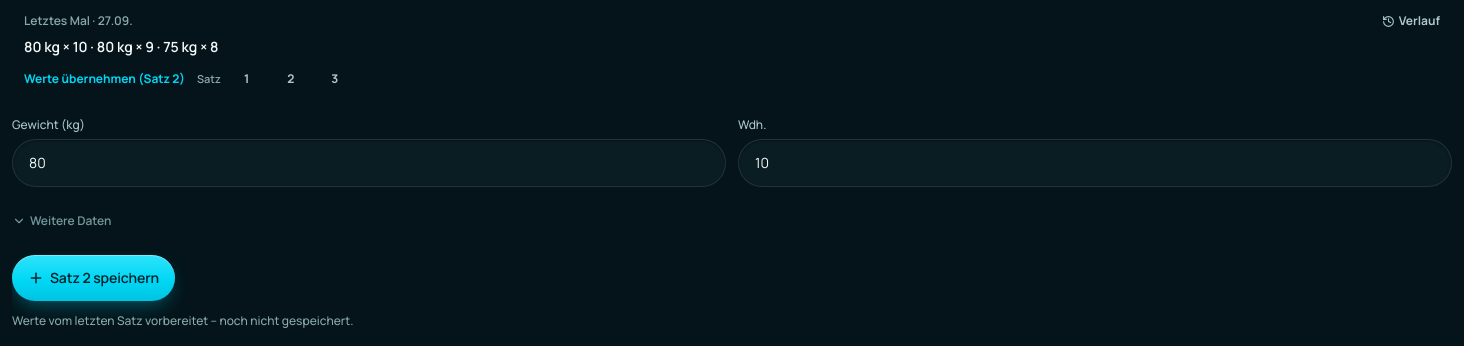
Scenario: SetLogger — suggestions and copying › copies the set that matches the next set number, and lets the user pick another one explicitly
Click the button "Werte übernehmen (Satz 2)" at (104, 79), box [18,57,191,101]
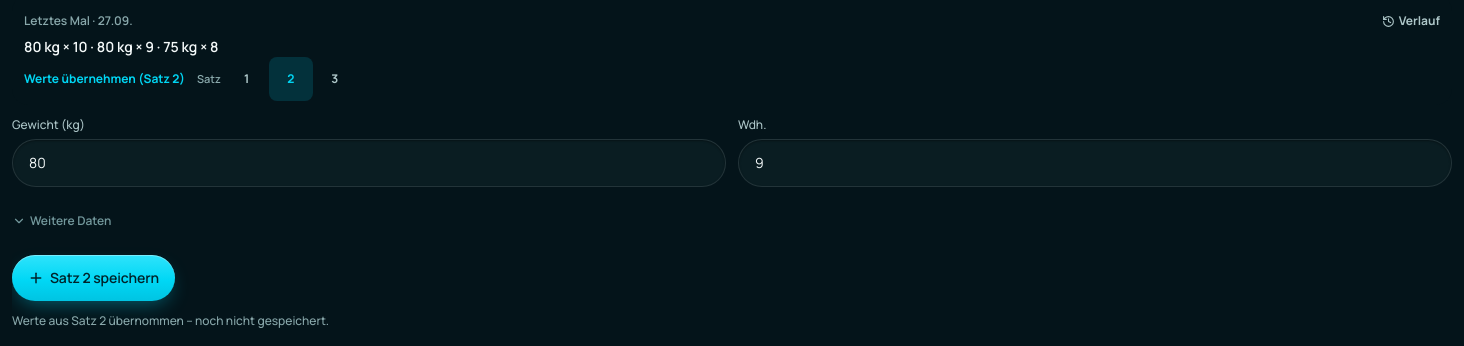
Expected: the field named "reps" holds "9", [738,139,1452,187]
Expected: the text "Werte aus Satz 2 übernommen" is shown, [12,312,329,329]
Click the button "3" at (335, 79), box [313,57,357,101]
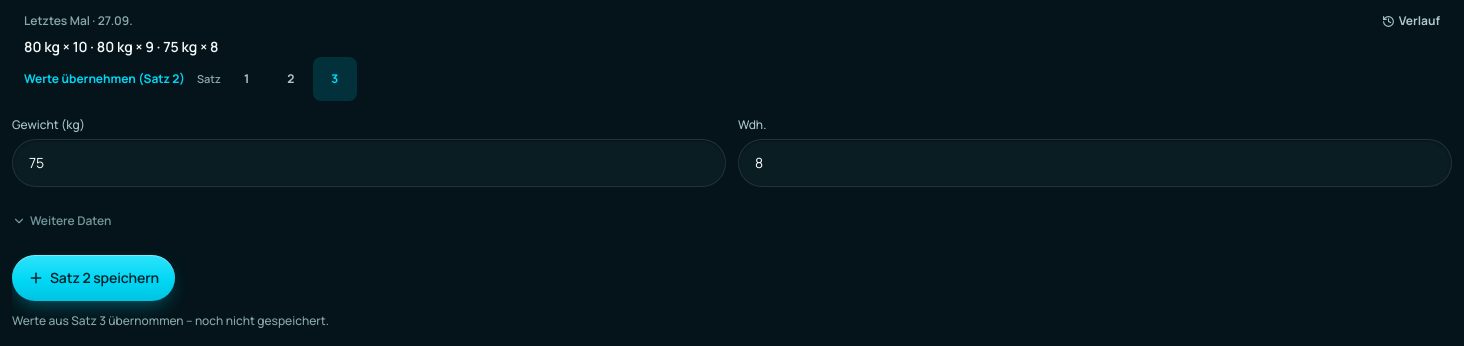
Expected: the field named "reps" holds "8", [738,139,1452,187]
